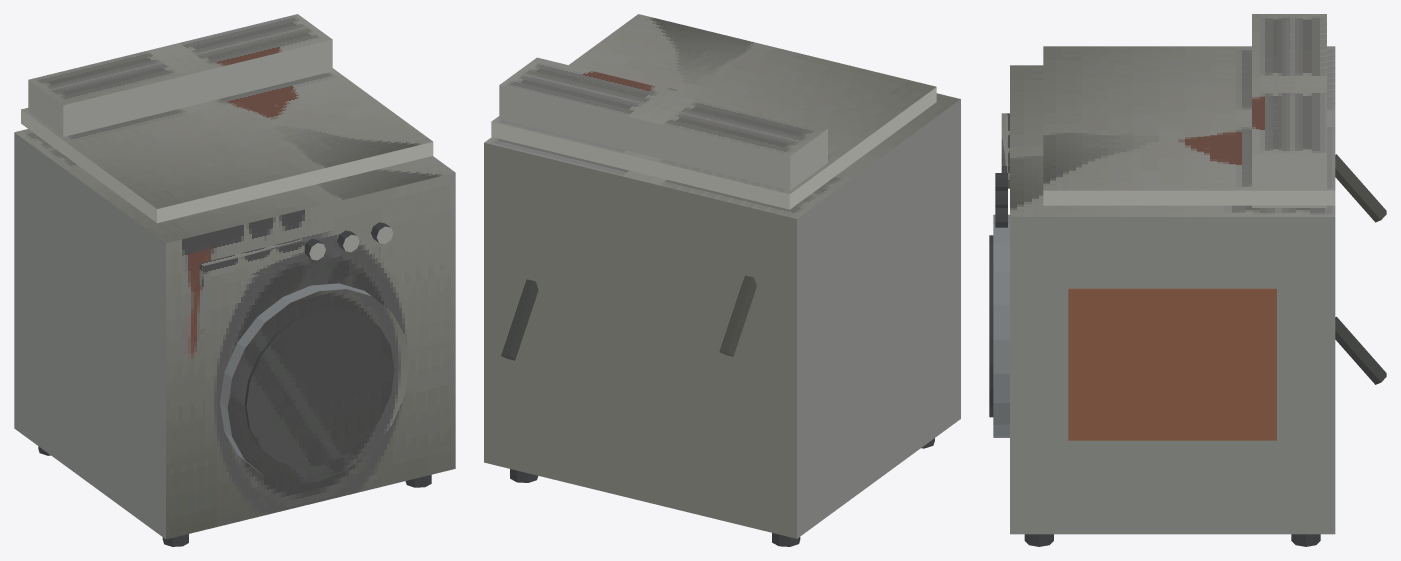
File: Building_AncientWashingMachine.glb
3 views of the same model, side by side, from view 1: azimuth 30°, elevation 25°; view 2: azimuth 150°, elevation 25°; view 3: azimuth 270°, elevation 25° (orthographic). The views are drawn at different scales.
Visible parts, largest first — view 1: AncientWashingMachine; view 2: AncientWashingMachine; view 3: AncientWashingMachine.
Boxes of the visible parts, bbox=[...] form: AncientWashingMachine: bbox=[14, 14, 455, 546]; AncientWashingMachine: bbox=[484, 14, 960, 546]; AncientWashingMachine: bbox=[989, 14, 1386, 546].
Bounding box in the file's own units: 0.864 × 1.04 × 0.9535.
1 material, 1 textured.
